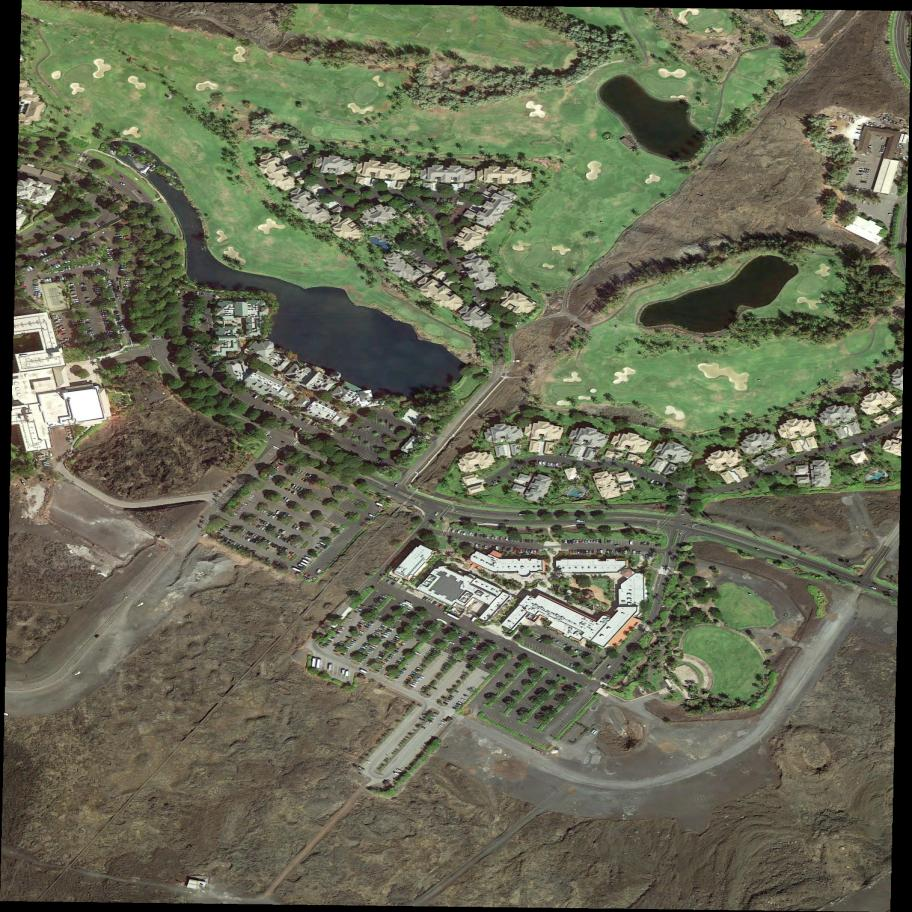large-vehicle: (311, 657, 317, 669), (292, 567, 303, 573), (316, 658, 322, 669), (301, 558, 310, 564), (299, 561, 308, 567), (212, 361, 219, 368), (304, 555, 312, 561), (298, 563, 306, 569), (559, 683, 566, 689), (345, 669, 350, 677), (572, 655, 579, 660), (328, 662, 332, 670), (229, 540, 235, 545), (537, 638, 543, 642), (574, 649, 580, 653), (341, 668, 345, 674), (563, 644, 570, 647), (570, 663, 574, 668), (555, 641, 561, 644), (578, 650, 584, 653)
small-vehicle: (50, 234, 57, 241), (28, 265, 35, 272), (257, 536, 263, 543), (252, 534, 259, 540), (242, 529, 249, 535), (276, 533, 282, 540), (248, 520, 255, 526), (252, 522, 259, 528), (256, 518, 263, 524), (261, 520, 268, 526), (267, 524, 274, 530), (277, 528, 284, 534), (265, 557, 271, 564), (272, 559, 278, 566), (251, 549, 257, 556), (267, 434, 274, 440), (262, 509, 269, 515), (275, 509, 281, 516), (260, 507, 266, 514), (39, 252, 46, 258), (42, 250, 49, 256), (480, 302, 487, 308), (229, 393, 235, 400), (393, 771, 401, 776), (457, 701, 465, 706), (451, 706, 459, 711), (414, 651, 422, 656), (356, 607, 364, 612), (260, 538, 266, 544), (255, 535, 261, 541), (250, 533, 256, 539), (245, 530, 251, 536), (274, 515, 280, 521), (295, 525, 301, 531), (292, 524, 298, 530), (252, 516, 258, 522), (259, 519, 265, 525), (271, 525, 277, 531), (280, 529, 286, 535), (240, 528, 246, 534), (227, 539, 233, 545), (278, 546, 284, 552), (281, 547, 287, 553), (271, 514, 277, 520), (269, 512, 275, 518), (254, 394, 260, 400), (292, 471, 298, 477), (296, 474, 302, 480), (234, 510, 240, 516), (285, 514, 291, 520), (282, 512, 288, 518), (298, 487, 304, 493), (69, 235, 75, 241), (429, 599, 435, 605), (412, 627, 418, 633), (377, 197, 383, 203), (49, 255, 55, 261), (47, 256, 53, 262), (424, 597, 430, 603), (421, 596, 427, 602), (319, 541, 326, 546), (317, 543, 324, 548), (359, 767, 366, 772), (419, 717, 426, 722), (430, 715, 437, 720), (249, 493, 256, 498), (278, 462, 285, 467), (862, 198, 867, 205), (650, 478, 655, 485), (358, 658, 365, 663), (413, 680, 420, 685), (339, 625, 346, 630), (334, 630, 341, 635), (347, 644, 354, 649), (351, 639, 358, 644), (381, 623, 388, 628), (860, 180, 868, 184), (433, 648, 439, 653), (265, 528, 270, 534), (284, 538, 289, 544), (293, 543, 298, 549), (269, 542, 274, 548), (265, 539, 270, 545), (263, 527, 268, 533), (250, 521, 256, 526), (265, 522, 270, 528), (256, 523, 261, 529), (258, 524, 263, 530), (242, 534, 247, 540), (246, 537, 252, 542), (232, 541, 237, 547), (234, 543, 240, 548), (313, 550, 319, 555), (249, 538, 255, 543), (251, 539, 257, 544), (290, 552, 296, 557), (254, 540, 259, 546), (265, 510, 270, 516), (397, 768, 403, 773), (299, 475, 304, 481), (417, 703, 423, 708), (292, 491, 298, 496), (246, 496, 252, 501), (242, 502, 248, 507), (300, 470, 305, 476), (278, 483, 284, 488), (21, 480, 26, 486), (54, 264, 60, 269), (59, 250, 64, 256), (64, 258, 69, 264), (57, 262, 62, 268), (42, 259, 48, 264), (100, 230, 106, 235), (26, 267, 31, 273), (170, 363, 176, 368), (64, 275, 69, 281), (447, 696, 453, 701), (460, 530, 465, 536), (451, 528, 456, 534), (434, 511, 439, 517), (515, 466, 520, 472), (471, 296, 477, 301), (479, 301, 485, 306), (760, 465, 766, 470), (607, 664, 612, 670), (862, 442, 867, 448), (782, 453, 787, 459), (871, 585, 877, 590), (655, 481, 660, 487), (382, 660, 388, 665), (379, 663, 385, 668), (396, 660, 402, 665), (388, 655, 394, 660), (391, 652, 397, 657), (393, 649, 399, 654), (378, 655, 384, 660), (399, 643, 405, 648), (433, 686, 439, 691), (426, 693, 432, 698), (411, 671, 417, 676), (369, 513, 375, 518), (361, 656, 367, 661), (338, 642, 344, 647), (338, 627, 344, 632), (334, 632, 340, 637), (328, 637, 334, 642), (358, 621, 364, 626), (470, 646, 476, 651), (373, 605, 379, 610), (376, 613, 382, 618), (407, 606, 413, 611), (369, 619, 375, 624), (365, 642, 371, 647), (361, 645, 367, 650), (382, 633, 388, 638), (375, 641, 381, 646), (374, 632, 380, 637), (368, 621, 374, 626), (360, 630, 366, 635), (341, 650, 347, 655), (380, 625, 386, 630), (379, 627, 385, 632), (364, 759, 371, 763), (240, 503, 247, 507), (194, 344, 201, 348), (415, 639, 422, 643), (701, 524, 708, 528), (692, 522, 699, 526), (395, 635, 402, 639), (399, 669, 406, 673), (416, 677, 423, 681), (418, 675, 425, 679), (363, 654, 370, 658), (360, 619, 367, 623), (381, 595, 388, 599), (442, 638, 449, 642), (402, 614, 409, 618), (358, 649, 365, 653), (380, 636, 387, 640), (342, 649, 349, 653), (286, 539, 291, 544), (267, 541, 272, 546), (248, 532, 253, 537), (261, 526, 266, 531), (245, 536, 250, 541), (225, 538, 230, 543), (237, 545, 242, 550), (284, 548, 289, 553), (271, 543, 276, 548), (274, 544, 279, 549), (276, 545, 281, 550), (266, 547, 271, 552), (302, 417, 307, 422), (312, 422, 317, 427), (315, 477, 320, 482), (305, 472, 310, 477), (285, 498, 290, 503), (281, 484, 286, 489), (303, 471, 308, 476), (295, 468, 300, 473), (296, 486, 301, 491), (294, 485, 299, 490), (62, 250, 67, 255), (59, 261, 64, 266), (92, 245, 97, 250), (45, 258, 50, 263), (96, 223, 101, 228), (138, 190, 143, 195), (120, 175, 125, 180), (97, 260, 102, 265), (771, 472, 776, 477), (471, 532, 476, 537), (454, 529, 459, 534), (434, 602, 439, 607), (824, 443, 829, 448), (427, 598, 432, 603), (387, 657, 392, 662), (386, 672, 391, 677), (385, 674, 390, 679), (390, 653, 395, 658), (380, 651, 385, 656), (395, 647, 400, 652), (398, 670, 403, 675), (363, 655, 368, 660), (421, 688, 426, 693), (394, 483, 399, 488), (326, 640, 331, 645), (324, 642, 329, 647), (440, 624, 445, 629), (390, 627, 395, 632), (346, 645, 351, 650), (218, 530, 224, 534), (223, 525, 229, 529), (421, 726, 427, 730), (274, 406, 280, 410), (282, 441, 288, 445), (426, 721, 432, 725), (454, 705, 460, 709), (464, 694, 470, 698), (461, 698, 467, 702), (456, 703, 462, 707), (442, 718, 448, 722), (433, 712, 439, 716), (248, 495, 254, 499), (238, 505, 244, 509), (236, 507, 242, 511), (236, 509, 242, 513), (274, 467, 280, 471), (298, 469, 302, 475), (277, 464, 283, 468), (274, 465, 280, 469), (272, 469, 278, 473), (269, 473, 275, 477), (266, 476, 272, 480), (292, 483, 296, 489), (123, 284, 129, 288), (93, 271, 97, 277), (106, 248, 114, 251), (106, 252, 114, 255), (101, 310, 109, 313), (71, 294, 77, 298), (99, 296, 105, 300), (52, 315, 60, 318), (454, 690, 460, 694), (478, 543, 482, 549), (474, 532, 478, 538), (481, 661, 487, 665), (476, 640, 482, 644), (461, 270, 467, 274), (453, 209, 459, 213), (475, 185, 481, 189), (830, 126, 838, 129), (624, 549, 628, 555), (372, 616, 378, 620), (888, 589, 894, 593), (634, 461, 638, 467), (646, 541, 650, 547), (643, 541, 647, 547), (381, 662, 387, 666), (376, 667, 382, 671), (402, 655, 408, 659), (393, 663, 399, 667), (393, 678, 399, 682), (382, 650, 388, 654), (357, 660, 363, 664), (390, 642, 396, 646), (376, 658, 382, 662), (374, 659, 380, 663), (401, 641, 407, 645), (423, 685, 429, 689), (411, 499, 417, 503), (351, 444, 357, 448), (347, 617, 353, 621), (322, 644, 328, 648), (357, 624, 363, 628), (345, 636, 351, 640), (360, 604, 366, 608), (468, 636, 474, 640), (477, 654, 483, 658), (458, 633, 464, 637), (456, 635, 462, 639), (449, 641, 455, 645), (421, 620, 427, 624), (333, 649, 339, 653), (363, 644, 369, 648), (387, 628, 393, 632), (384, 632, 390, 636), (379, 637, 385, 641), (371, 645, 377, 649), (369, 647, 375, 651), (368, 648, 374, 652), (372, 634, 378, 638), (366, 623, 372, 627), (364, 625, 370, 629), (351, 641, 357, 645), (349, 643, 355, 647), (377, 629, 383, 633), (344, 648, 350, 652), (340, 652, 346, 656), (108, 258, 115, 261), (106, 327, 113, 330), (72, 322, 79, 325), (79, 321, 86, 324), (103, 318, 110, 321), (57, 318, 64, 321), (53, 317, 60, 320), (461, 645, 468, 648), (754, 548, 761, 551), (864, 169, 871, 172), (856, 174, 863, 177), (852, 188, 859, 191), (280, 535, 284, 540), (281, 537, 286, 541), (263, 539, 267, 544), (450, 695, 455, 699), (275, 562, 280, 566), (315, 547, 320, 551), (224, 537, 228, 542), (221, 535, 225, 540), (217, 532, 222, 536), (257, 542, 261, 547), (222, 527, 227, 531), (220, 528, 225, 532), (304, 478, 308, 483), (253, 405, 257, 410), (340, 488, 344, 493), (438, 723, 443, 727), (445, 700, 450, 704), (443, 701, 448, 705), (423, 714, 428, 718), (302, 477, 306, 482), (308, 474, 313, 478), (233, 512, 238, 516), (283, 497, 287, 502), (288, 488, 292, 493), (286, 487, 290, 492), (68, 266, 72, 271), (49, 278, 53, 283), (70, 283, 75, 287), (475, 544, 479, 549), (531, 539, 535, 544), (542, 461, 546, 466), (492, 481, 496, 486), (536, 550, 540, 555), (509, 537, 513, 542), (469, 531, 473, 536), (463, 531, 467, 536), (458, 530, 462, 535), (432, 601, 436, 606), (633, 550, 637, 555), (830, 441, 834, 446), (576, 539, 580, 544), (494, 480, 498, 485), (631, 461, 635, 466), (396, 673, 401, 677), (385, 659, 390, 663), (398, 659, 403, 663), (391, 640, 396, 644), (379, 654, 384, 658), (394, 675, 399, 679), (409, 675, 414, 679), (407, 677, 412, 681), (413, 682, 418, 686), (409, 685, 414, 689), (457, 659, 462, 663), (410, 674, 415, 678), (414, 670, 419, 674), (366, 426, 371, 430), (387, 579, 391, 584), (331, 636, 336, 640), (327, 639, 332, 643), (468, 650, 473, 654), (417, 623, 422, 627), (387, 631, 392, 635), (376, 630, 381, 634), (441, 721, 447, 724), (427, 719, 433, 722), (268, 475, 274, 478), (125, 278, 131, 281), (102, 270, 105, 276), (34, 287, 40, 290), (20, 283, 26, 286), (95, 287, 101, 290), (19, 204, 25, 207), (108, 256, 114, 259), (46, 272, 52, 275), (53, 271, 59, 274), (59, 270, 65, 273), (88, 262, 91, 268), (121, 263, 127, 266), (120, 266, 126, 269), (188, 327, 194, 330), (108, 330, 114, 333), (78, 339, 84, 342), (78, 341, 84, 344), (82, 330, 88, 333), (73, 326, 79, 329), (72, 320, 78, 323), (85, 318, 91, 321), (115, 317, 121, 320), (118, 325, 124, 328), (121, 331, 127, 334), (103, 316, 109, 319), (89, 333, 95, 336), (106, 281, 112, 284), (81, 284, 87, 287), (74, 300, 80, 303), (73, 296, 79, 299), (70, 286, 76, 289), (64, 338, 70, 341), (57, 327, 63, 330), (110, 297, 116, 300), (108, 291, 114, 294), (858, 168, 864, 171), (791, 457, 797, 460), (577, 520, 586, 522), (682, 524, 688, 527), (378, 666, 384, 669), (395, 662, 401, 665), (394, 637, 400, 640), (393, 639, 399, 642), (402, 682, 408, 685), (411, 684, 417, 687), (415, 668, 421, 671), (353, 611, 359, 614), (426, 629, 432, 632), (396, 619, 402, 622), (340, 641, 346, 644), (373, 644, 379, 647), (447, 698, 451, 702), (67, 258, 71, 262), (24, 288, 28, 292), (101, 312, 109, 314), (484, 545, 488, 549), (492, 546, 496, 550), (466, 532, 470, 536), (494, 536, 498, 540), (519, 514, 527, 516), (555, 463, 559, 467), (564, 454, 568, 458), (375, 668, 379, 672), (405, 680, 409, 684), (423, 687, 427, 691), (403, 667, 407, 671), (379, 419, 383, 423), (430, 718, 435, 721), (104, 270, 107, 275), (96, 289, 101, 292), (118, 236, 123, 239), (117, 212, 120, 217), (121, 183, 126, 186), (78, 263, 81, 268), (66, 266, 69, 271), (44, 278, 47, 283), (80, 319, 85, 322), (199, 371, 204, 374), (196, 349, 201, 352), (71, 291, 76, 294), (61, 340, 66, 343), (61, 328, 66, 331), (519, 538, 522, 543), (539, 461, 542, 466), (514, 547, 517, 552), (496, 546, 499, 551), (480, 534, 483, 539), (500, 536, 503, 541), (456, 206, 461, 209), (880, 151, 885, 154), (881, 149, 886, 152), (592, 645, 595, 650), (616, 549, 619, 554), (599, 539, 602, 544), (571, 539, 574, 544), (610, 539, 613, 544), (630, 540, 633, 545), (586, 550, 589, 555), (583, 549, 586, 554), (406, 679, 411, 682), (376, 505, 381, 508), (405, 664, 410, 667), (416, 667, 421, 670), (384, 489, 389, 492), (372, 431, 377, 434), (338, 630, 343, 633), (367, 651, 372, 654), (377, 641, 382, 644), (35, 295, 42, 297), (35, 293, 42, 295), (35, 291, 42, 293), (73, 299, 80, 301), (55, 324, 62, 326), (449, 241, 456, 243), (863, 172, 870, 174), (614, 545, 621, 547), (154, 335, 157, 339), (117, 278, 120, 282), (127, 259, 133, 261), (127, 257, 133, 259), (127, 255, 133, 257), (99, 271, 102, 275), (33, 282, 39, 284), (97, 272, 100, 276), (117, 295, 120, 299), (47, 279, 50, 283), (120, 249, 126, 251), (124, 236, 130, 238), (117, 234, 121, 237), (91, 263, 94, 267), (96, 261, 99, 265), (120, 269, 126, 271), (87, 330, 93, 332), (108, 333, 114, 335), (108, 335, 114, 337), (108, 337, 114, 339), (109, 339, 115, 341), (83, 333, 89, 335), (106, 326, 112, 328), (105, 324, 111, 326), (105, 322, 111, 324), (117, 322, 123, 324), (114, 314, 120, 316), (119, 328, 125, 330), (88, 332, 94, 334), (60, 277, 63, 281), (107, 284, 113, 286), (106, 280, 112, 282), (82, 288, 88, 290), (85, 298, 91, 300), (62, 277, 65, 281), (98, 295, 104, 297), (61, 344, 67, 346), (55, 321, 61, 323), (203, 293, 206, 297), (197, 292, 200, 296), (86, 301, 92, 303), (528, 539, 531, 543), (525, 539, 528, 543), (537, 540, 540, 544), (438, 699, 442, 702), (534, 550, 537, 554), (531, 549, 534, 553), (528, 549, 531, 553), (525, 549, 528, 553), (522, 549, 525, 553), (506, 548, 509, 552), (509, 548, 512, 552), (503, 547, 506, 551), (483, 534, 486, 538), (486, 535, 489, 539), (450, 199, 453, 203), (551, 463, 554, 467), (831, 129, 837, 131), (889, 214, 895, 216), (601, 550, 604, 554), (597, 549, 600, 553), (579, 539, 582, 543), (568, 540, 571, 544), (565, 540, 568, 544), (572, 550, 575, 554), (592, 550, 595, 554), (589, 550, 592, 554), (580, 550, 583, 554), (577, 550, 580, 554), (569, 550, 572, 554), (641, 542, 644, 546), (385, 420, 388, 424), (358, 437, 361, 441), (353, 433, 356, 437), (125, 281, 130, 283), (35, 289, 40, 291), (34, 284, 39, 286), (21, 285, 26, 287), (119, 238, 124, 240), (122, 265, 127, 267), (117, 320, 122, 322), (87, 328, 92, 330), (108, 287, 113, 289), (97, 292, 102, 294), (99, 299, 104, 301), (110, 296, 115, 298), (512, 537, 514, 542), (506, 537, 508, 542), (492, 535, 494, 540), (548, 462, 550, 467), (607, 549, 609, 554), (881, 146, 886, 148), (574, 539, 576, 544), (114, 311, 119, 313), (596, 540, 599, 543), (593, 540, 596, 543), (590, 540, 593, 543), (585, 540, 588, 543), (520, 549, 522, 553), (517, 538, 519, 542), (514, 538, 516, 542), (448, 199, 450, 203), (882, 148, 886, 150), (636, 551, 638, 555), (610, 550, 612, 554), (575, 550, 577, 554), (108, 255, 115, 256), (119, 287, 121, 290), (79, 344, 85, 345), (103, 315, 109, 316), (82, 290, 88, 291), (518, 549, 520, 552), (608, 540, 610, 543), (588, 540, 590, 543), (582, 540, 584, 543), (108, 270, 109, 275), (34, 286, 39, 287), (449, 236, 454, 237), (554, 463, 555, 467)
